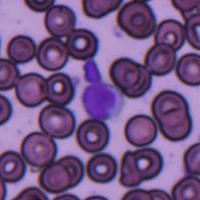L: (82, 82, 124, 120)
